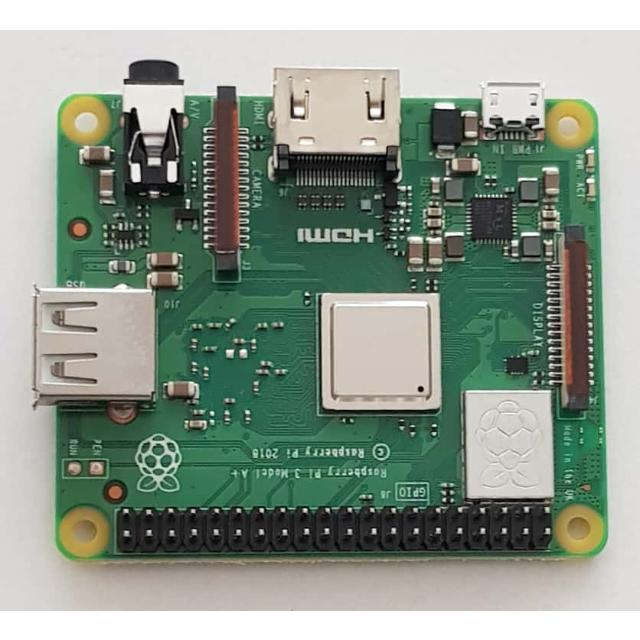Raspberry-Pi-3-A-: (34, 62, 607, 559)
